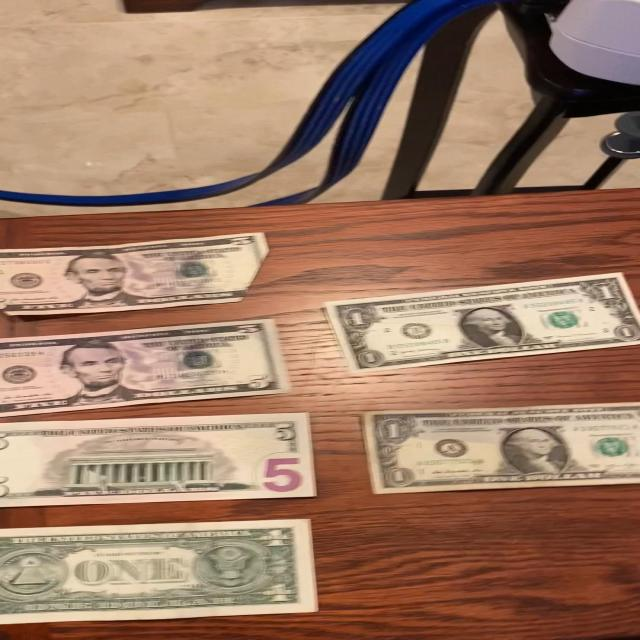1-Back: (0, 521, 321, 628)
1-Front: (326, 271, 640, 376), (361, 406, 640, 494)
5-Back: (0, 414, 320, 506)
5-Front: (0, 321, 295, 414), (1, 230, 272, 314)
